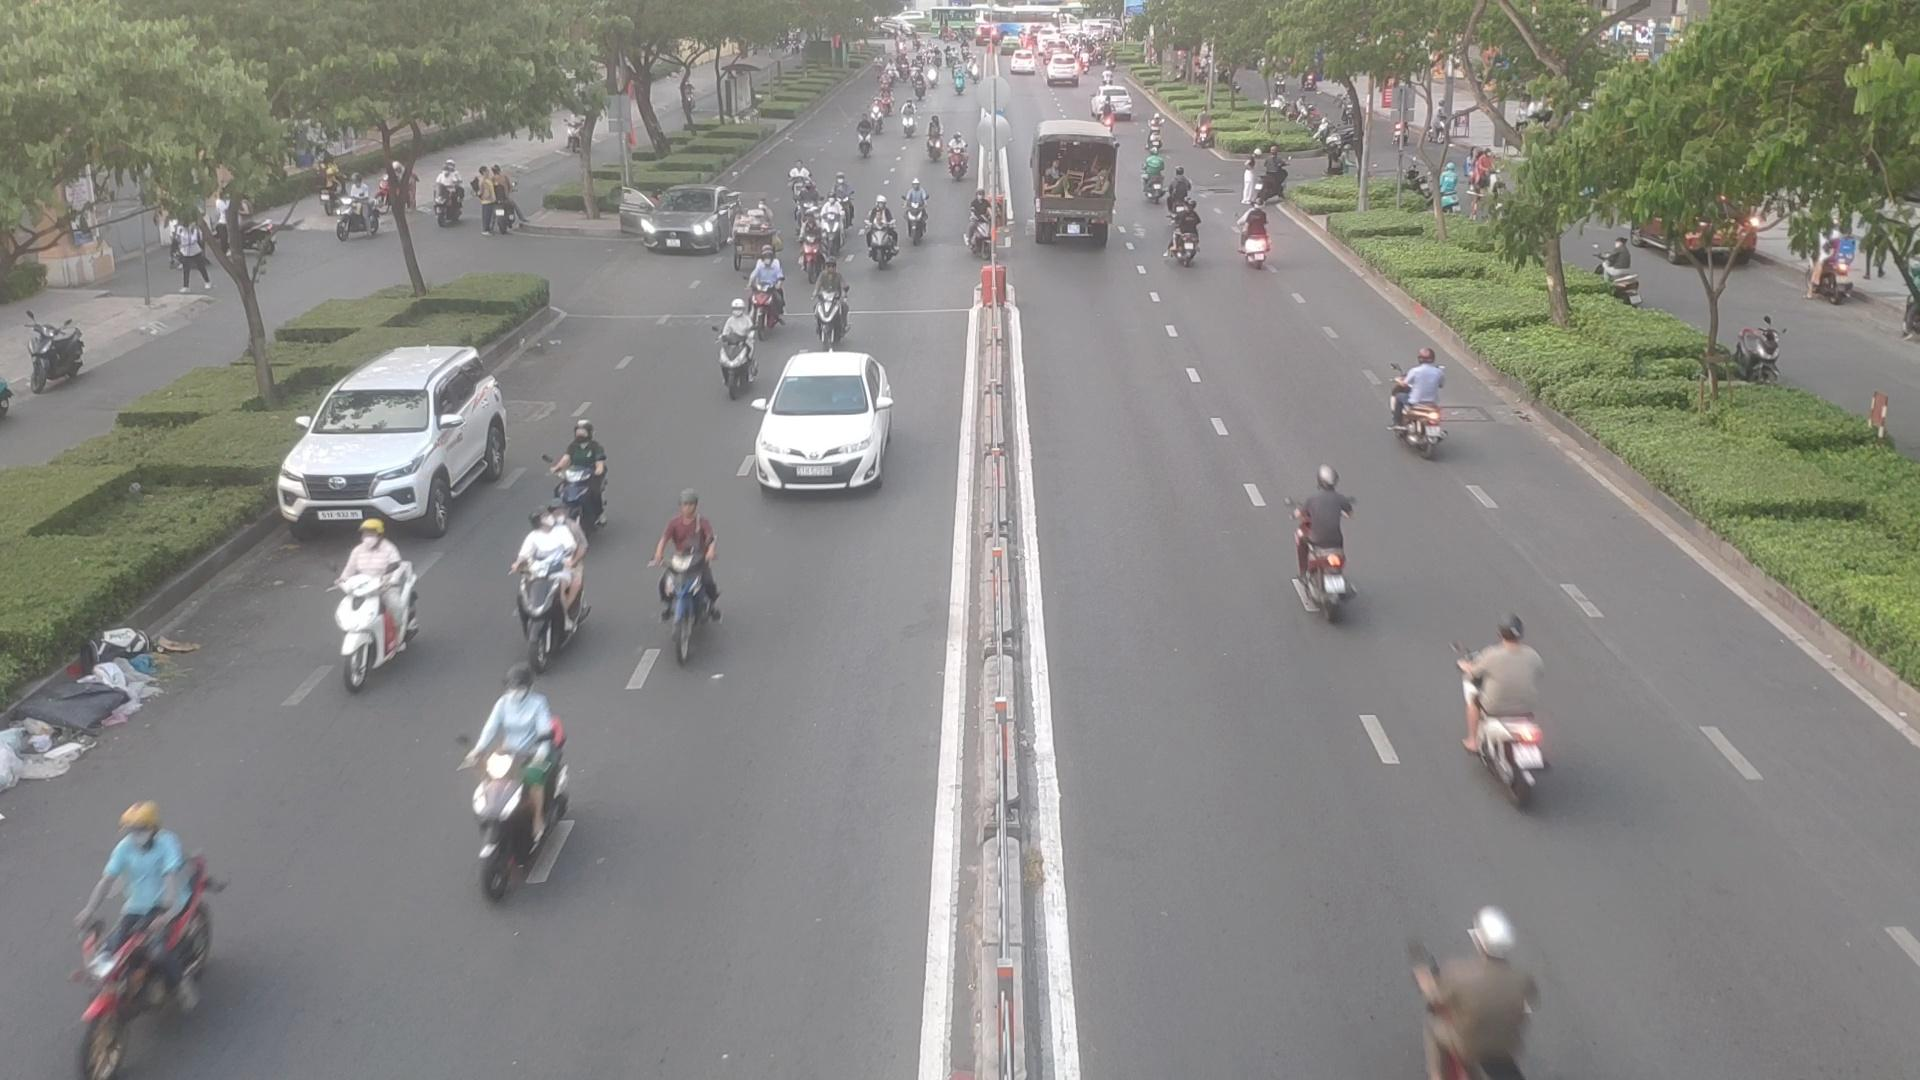car: (285, 343, 522, 530), (745, 353, 901, 495), (615, 191, 744, 258)
motorbike: (61, 811, 208, 1080), (448, 684, 576, 895), (1452, 621, 1565, 806), (324, 527, 431, 680), (516, 516, 601, 661), (647, 506, 732, 651), (1283, 481, 1369, 616), (539, 427, 613, 535), (1379, 345, 1456, 448), (709, 306, 764, 386), (811, 272, 857, 347), (742, 264, 789, 332), (860, 204, 901, 269), (1166, 204, 1205, 265), (1240, 204, 1274, 268), (905, 183, 936, 243), (945, 140, 977, 183), (918, 127, 944, 160)
